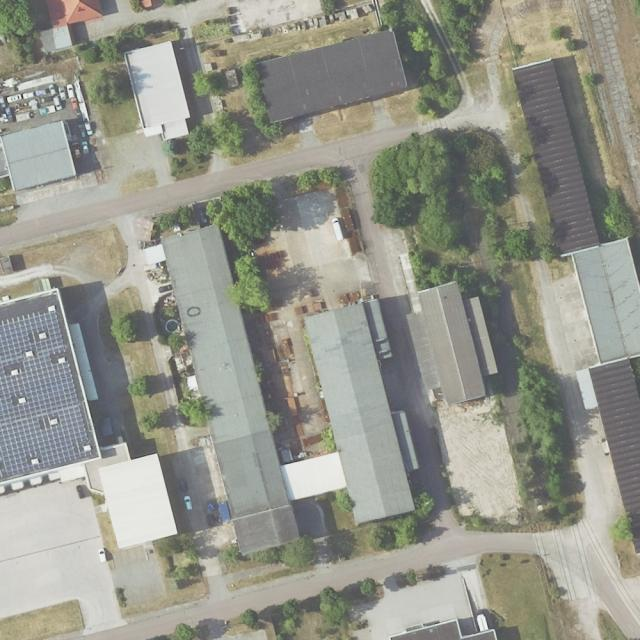PV: (0, 311, 93, 475)
